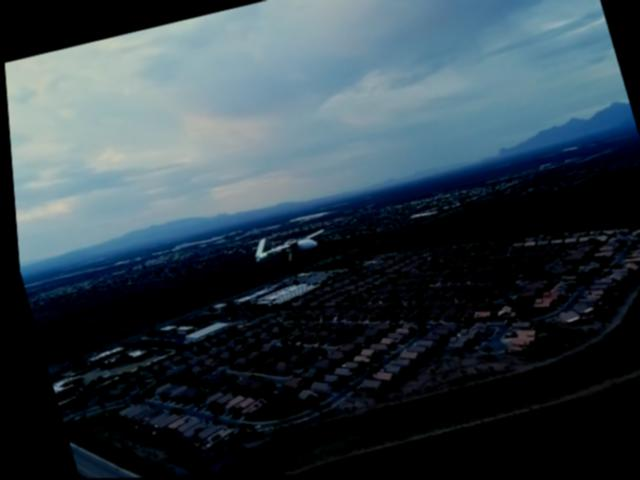plane: (244, 224, 330, 275)
